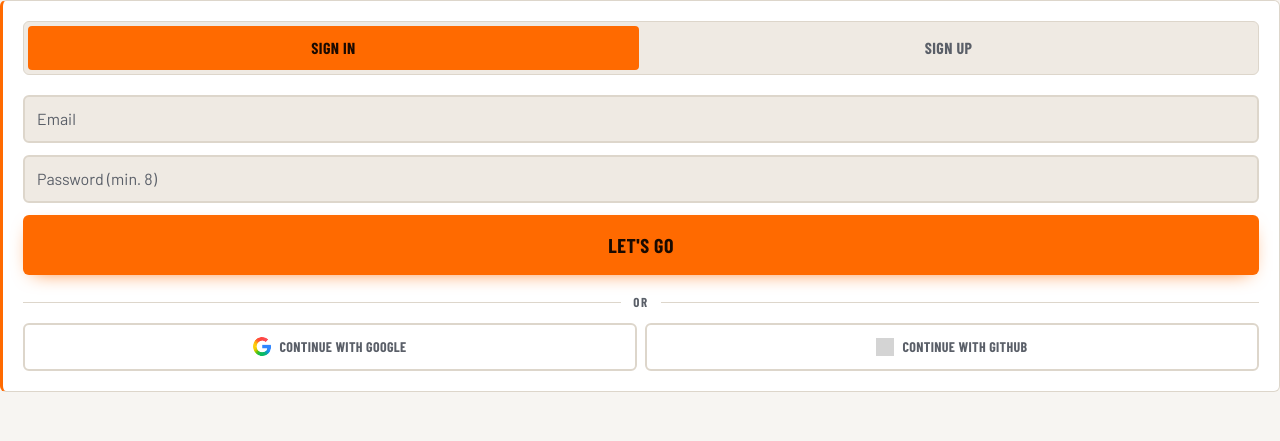
AuthForms › surfaces the error the server returned
Type "a@b.com" into the field labelled "Email" at [641, 119], box [23, 95, 1259, 143]
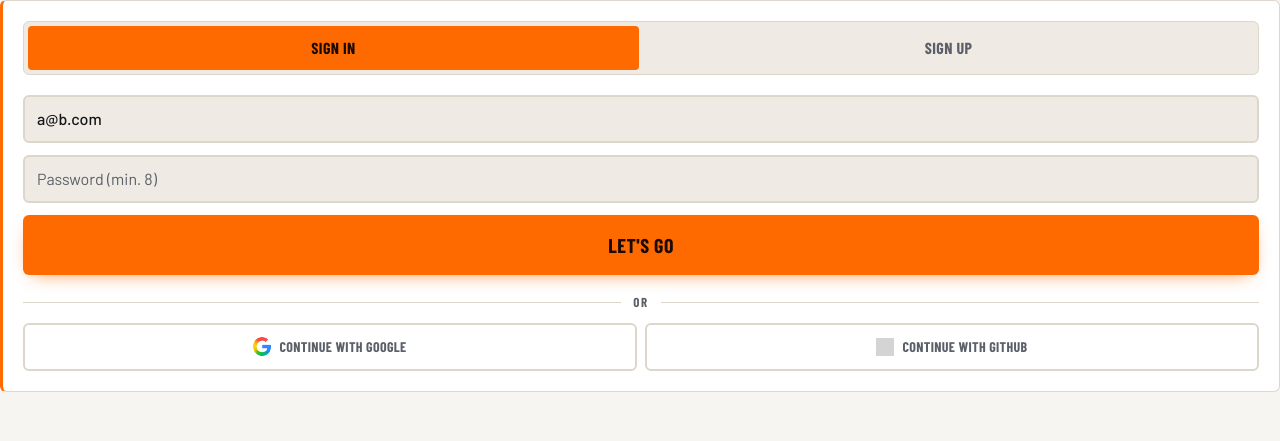
Type "wrongpass" into the password field labelled "Password" at [641, 179], box [23, 155, 1259, 203]
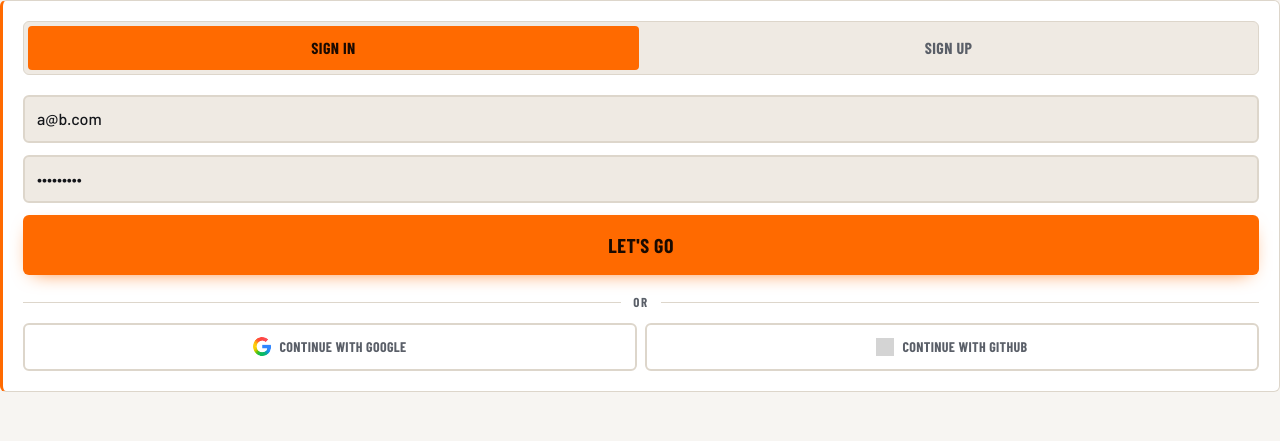
Click the button "Let's go" at [641, 245], box [23, 215, 1259, 275]
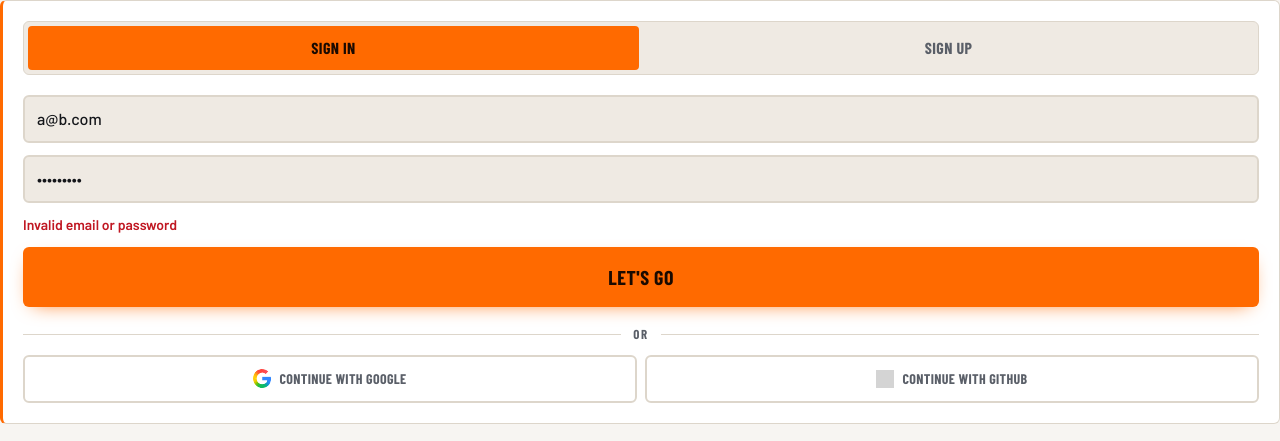
Result: the message reads "Invalid email or password" at [23, 216, 177, 233]
